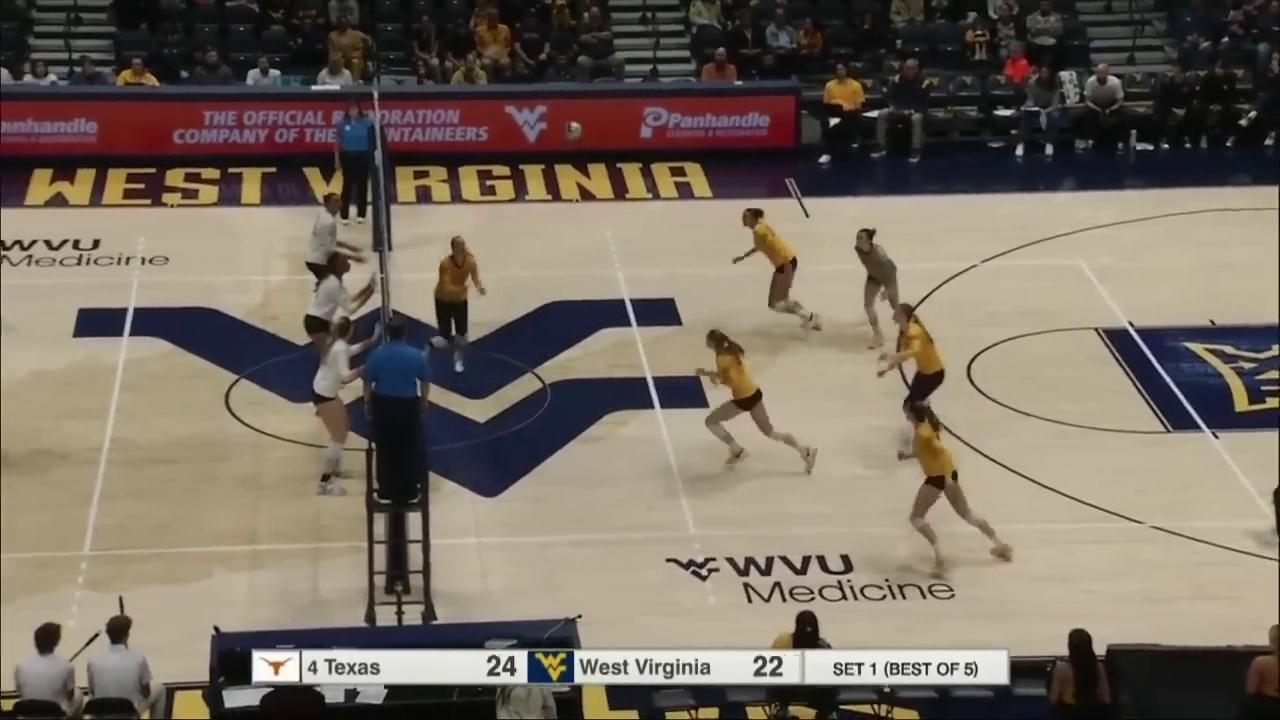player: (899, 401, 1014, 574), (699, 328, 819, 475), (312, 315, 383, 493), (734, 208, 823, 331), (305, 252, 377, 401), (879, 304, 945, 446), (424, 235, 484, 372), (306, 192, 363, 326), (853, 228, 909, 348)
refree: (366, 319, 433, 500), (337, 101, 377, 223)
